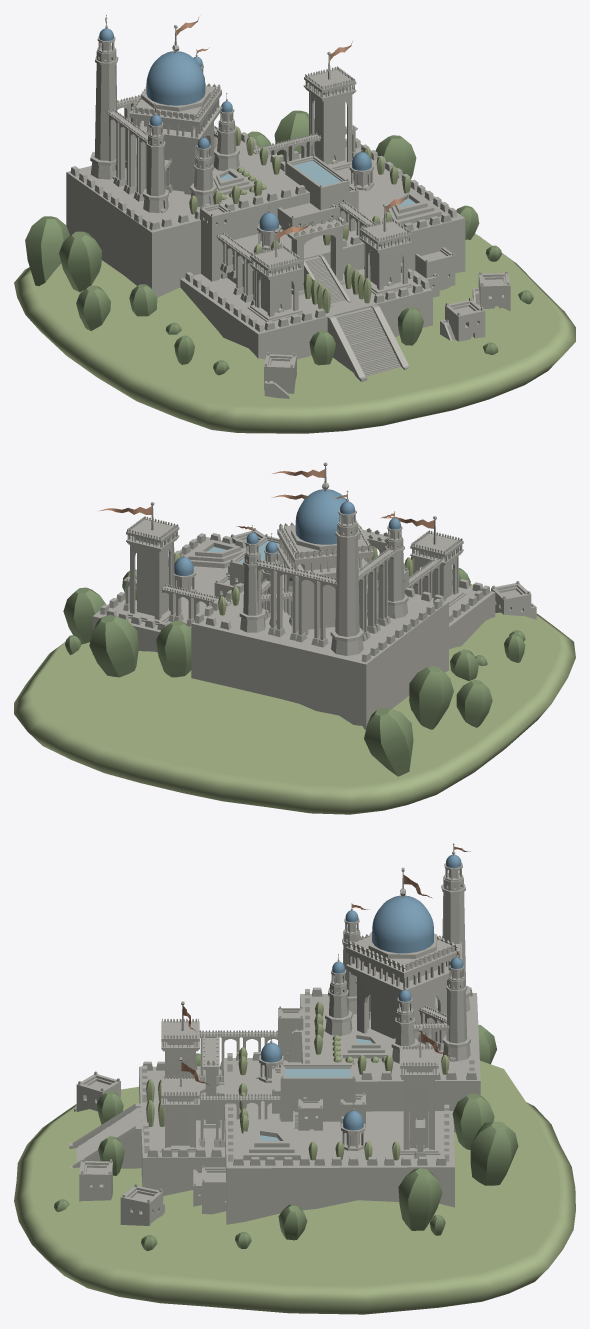
The model's file is preview.fbx.
3 renders of one model, top to bottom at view 1: azimuth 30°, elevation 25°; view 2: azimuth 150°, elevation 25°; view 3: azimuth 270°, elevation 25°, orthographic. The views are drawn at different scales.
Visible parts, largest first — view 1: polySurface303, polySurface304, polySurface262, polySurface265, polySurface333, polySurface292, polySurface336, polySurface309, polySurface311, polySurface305, pCube105, pCylinder58 (+21 smaller); view 2: polySurface303, polySurface304, polySurface262, polySurface265, polySurface309, polySurface312, polySurface311, pCylinder58, pCylinder4, polySurface292, pCylinder41, polySurface298 (+12 smaller); view 3: polySurface303, polySurface304, polySurface262, pCube105, polySurface265, polySurface336, polySurface305, polySurface333, pCylinder4, polySurface309, pCylinder3, polySurface298 (+17 smaller).
Part boxes in pixels (x1,y1,x2,y2): polySurface303: [14, 233, 575, 433]; polySurface304: [66, 137, 465, 359]; polySurface262: [129, 25, 222, 194]; polySurface265: [303, 66, 356, 170]; polySurface333: [327, 304, 409, 381]; polySurface292: [247, 245, 304, 321]; polySurface336: [359, 218, 413, 294]; polySurface309: [90, 18, 118, 179]; polySurface311: [106, 109, 147, 201]; polySurface305: [190, 93, 240, 207]; pCube105: [285, 154, 349, 220]; pCylinder58: [25, 216, 69, 285]; polySurface303: [14, 584, 575, 814]; polySurface304: [92, 537, 495, 729]; polySurface262: [277, 462, 373, 634]; polySurface265: [126, 516, 181, 625]; polySurface309: [330, 490, 364, 655]; polySurface312: [256, 560, 337, 647]; polySurface311: [358, 547, 397, 641]; pCylinder58: [364, 707, 413, 776]; pCylinder4: [89, 614, 138, 677]; polySurface292: [410, 530, 466, 606]; pCylinder41: [409, 665, 453, 729]; polySurface298: [239, 525, 265, 632]; polySurface303: [14, 1060, 575, 1314]; polySurface304: [139, 993, 480, 1224]; polySurface262: [345, 867, 460, 1039]; pCube105: [280, 1062, 355, 1121]; polySurface265: [398, 1046, 440, 1154]; polySurface336: [159, 1075, 201, 1152]; polySurface305: [323, 954, 418, 1063]; polySurface333: [69, 1103, 141, 1168]; pCylinder4: [470, 1121, 518, 1185]; polySurface309: [435, 843, 470, 1011]; pCylinder3: [398, 1168, 442, 1230]; polySurface298: [442, 949, 470, 1061].
Size of the model in its own units: 2390 by 1538 by 2571.
